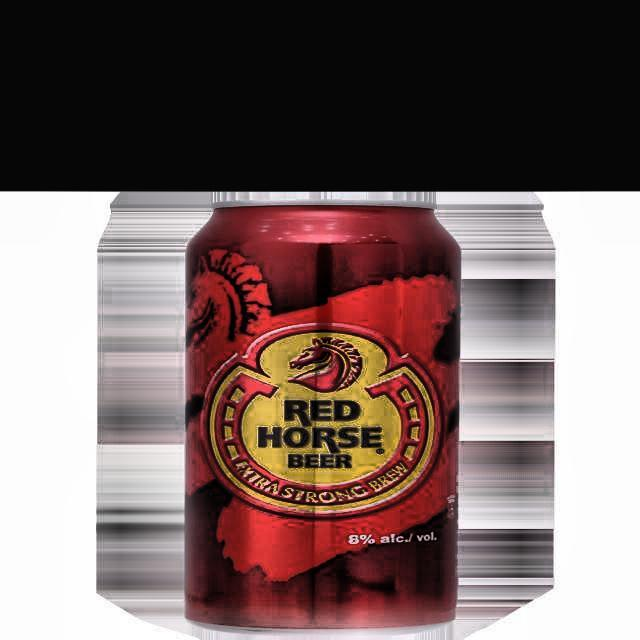litter: (179, 196, 465, 639)
